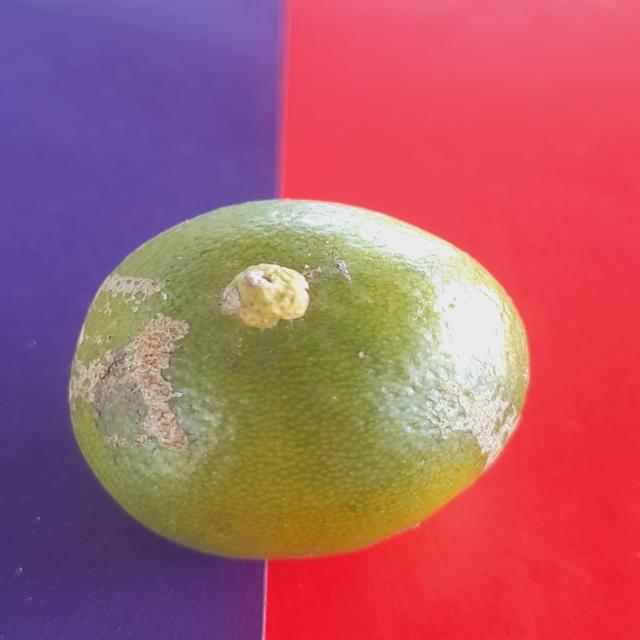thrips: (87, 221, 527, 550)
